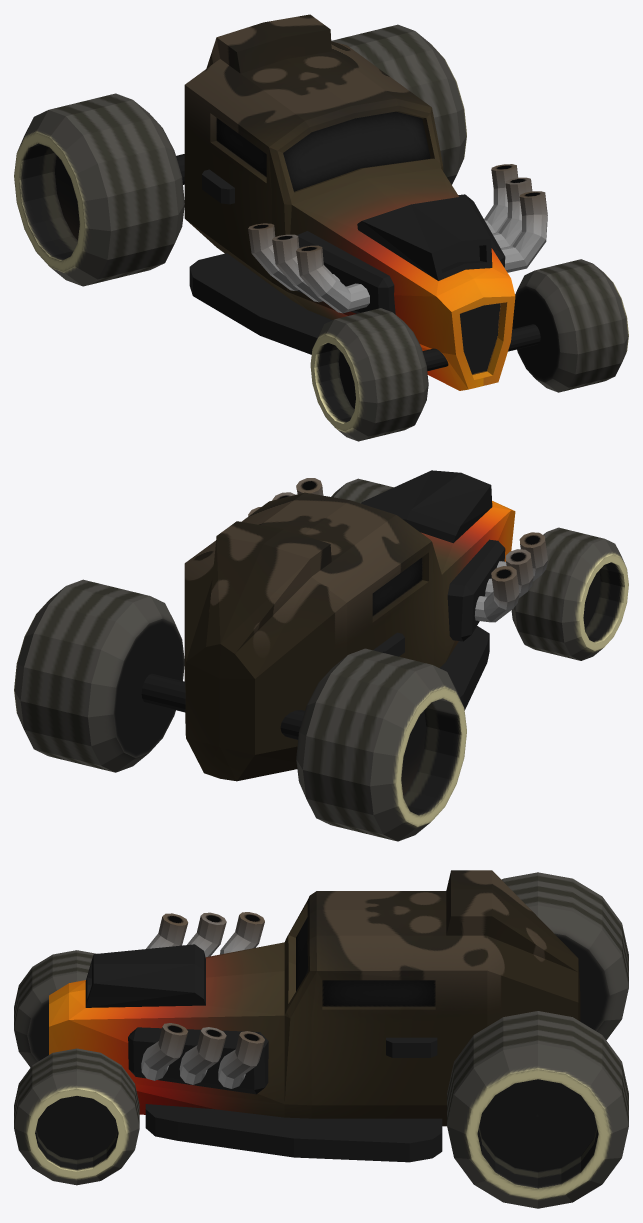
The model's file is tiny-racer-6.glb.
3 renders of one model, top to bottom at view 1: azimuth 30°, elevation 25°; view 2: azimuth 150°, elevation 25°; view 3: azimuth 270°, elevation 25°, orthographic.
Parts seen in each view (by area): view 1: Plane.039, wheel_2, wheel_1, wheel_0, wheel_3, Cube.202, Cube.203, Plane.032, Plane.033, Plane.034, Plane.037, Plane.036 (+2 smaller); view 2: Plane.039, wheel_2, wheel_3, wheel_1, Cube.203, Cube.202, Plane.036, Plane.037, Plane.032, wheel_0; view 3: Plane.039, wheel_3, wheel_0, Cube.202, wheel_2, wheel_1, Cube.201, Plane.033, Plane.034, Plane.035, Plane.036, Cube.200 (+2 smaller).
Boxes of the visible parts, x1,y1,x2,y2 form: Plane.039: [184, 14, 515, 390]; wheel_2: [14, 93, 184, 286]; wheel_1: [310, 308, 448, 441]; wheel_0: [508, 259, 628, 392]; wheel_3: [331, 24, 466, 184]; Cube.202: [189, 253, 331, 354]; Cube.203: [297, 231, 395, 314]; Plane.032: [296, 245, 369, 313]; Plane.033: [501, 191, 547, 272]; Plane.034: [492, 177, 532, 248]; Plane.037: [272, 234, 339, 302]; Plane.036: [248, 223, 298, 290]; Plane.039: [184, 470, 515, 781]; wheel_2: [280, 648, 466, 841]; wheel_3: [14, 579, 185, 772]; wheel_1: [511, 527, 628, 660]; Cube.203: [447, 539, 505, 641]; Cube.202: [439, 626, 489, 710]; Plane.036: [475, 566, 519, 622]; Plane.037: [485, 549, 533, 598]; Plane.032: [496, 532, 547, 581]; wheel_0: [331, 478, 393, 503]; Plane.039: [49, 870, 580, 1126]; wheel_3: [447, 1011, 628, 1208]; wheel_0: [14, 1048, 139, 1185]; Cube.202: [145, 1104, 442, 1162]; wheel_2: [501, 872, 628, 1040]; wheel_1: [14, 950, 96, 1067]; Cube.201: [128, 1027, 268, 1094]; Plane.033: [141, 1023, 188, 1080]; Plane.034: [179, 1027, 226, 1084]; Plane.035: [218, 1031, 264, 1088]; Plane.036: [220, 912, 264, 954]; Cube.200: [386, 1037, 437, 1057].
Bounding box in the file's own units: 1.02 × 0.5985 × 1.42.
1 material, 1 textured.
